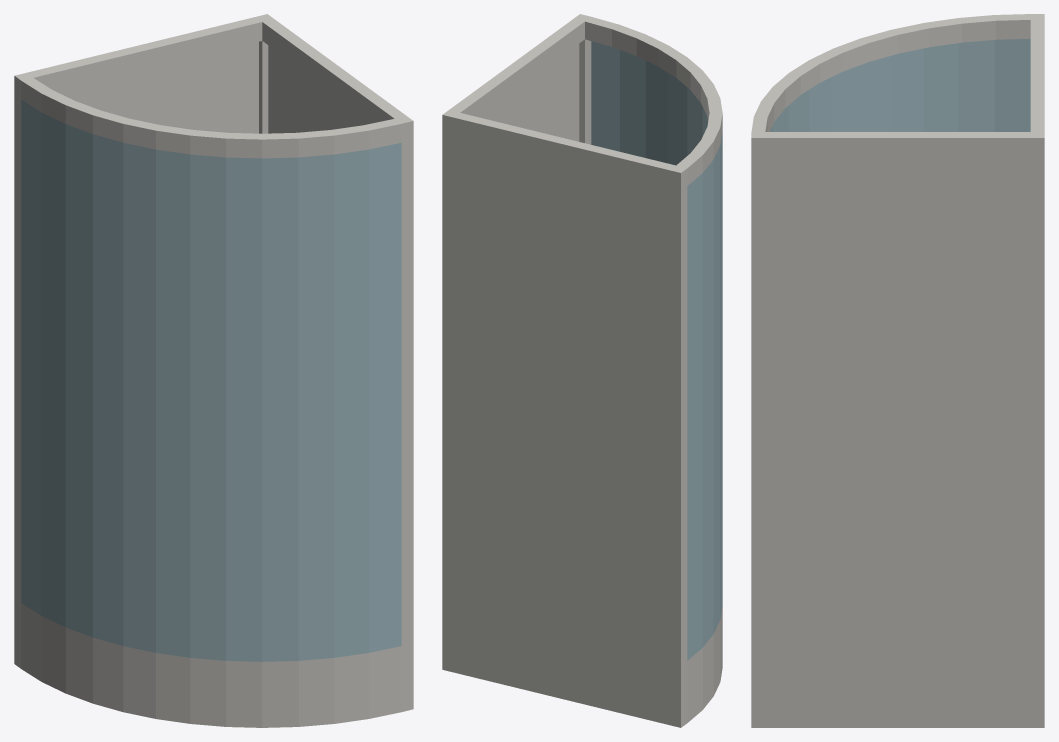
Rendered from shower_quadrant.glb.
3 renders of one model, left to right at view 1: azimuth 30°, elevation 25°; view 2: azimuth 150°, elevation 25°; view 3: azimuth 270°, elevation 25°, orthographic. The views are drawn at different scales.
Visible parts, largest first — view 1: shower_quadrant; view 2: shower_quadrant; view 3: shower_quadrant.
Boxes of the visible parts, x1,y1,x2,y2 form: shower_quadrant: (14, 14, 413, 727); shower_quadrant: (442, 14, 722, 727); shower_quadrant: (751, 14, 1044, 727).
Size of the model in its own units: 0.9 by 2 by 0.9.
